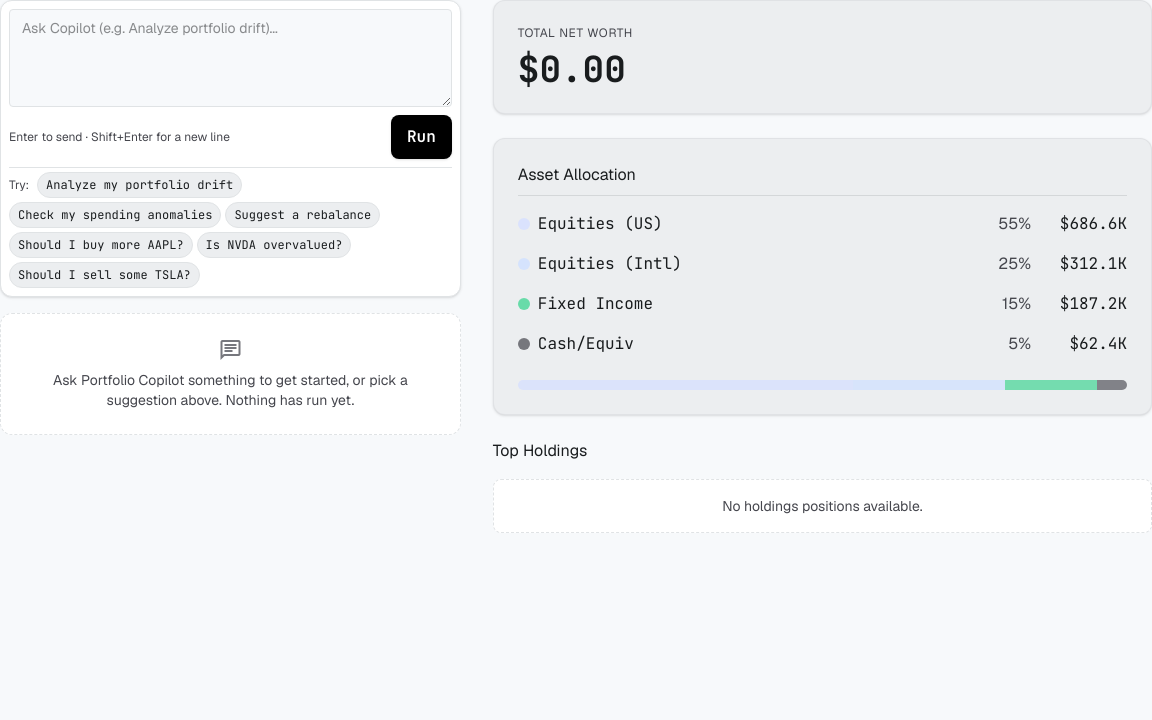
Test case: Frontend Views › DashboardView clears previous agent responses when the user starts a new interaction
Click the button with test id "example-prompt" showing "Analyze my portfolio drift" at point(140, 185), box left=37, top=172, right=242, bottom=198
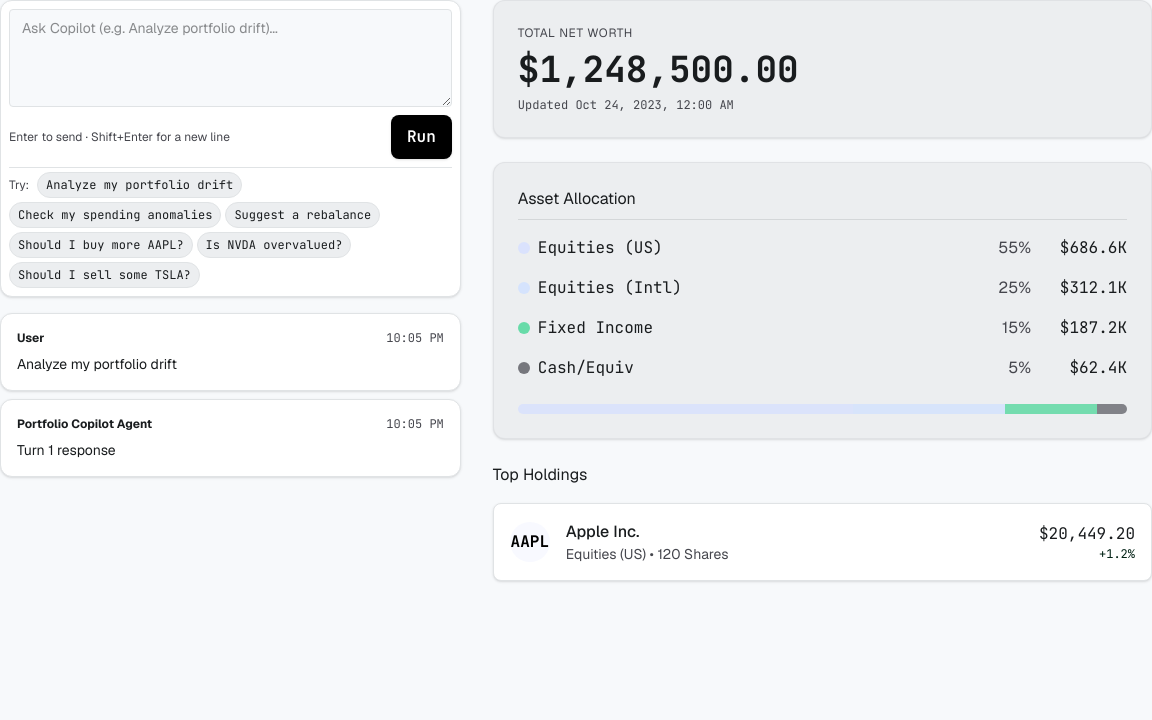
Expected: the text "Turn 1 response" is shown, left=17, top=441, right=116, bottom=459
Note: Turn 2: should clear Turn 1 message and show Turn 2 message
Click the button with test id "example-prompt" showing "Check my spending anomalies" at point(115, 215), box left=9, top=202, right=221, bottom=228
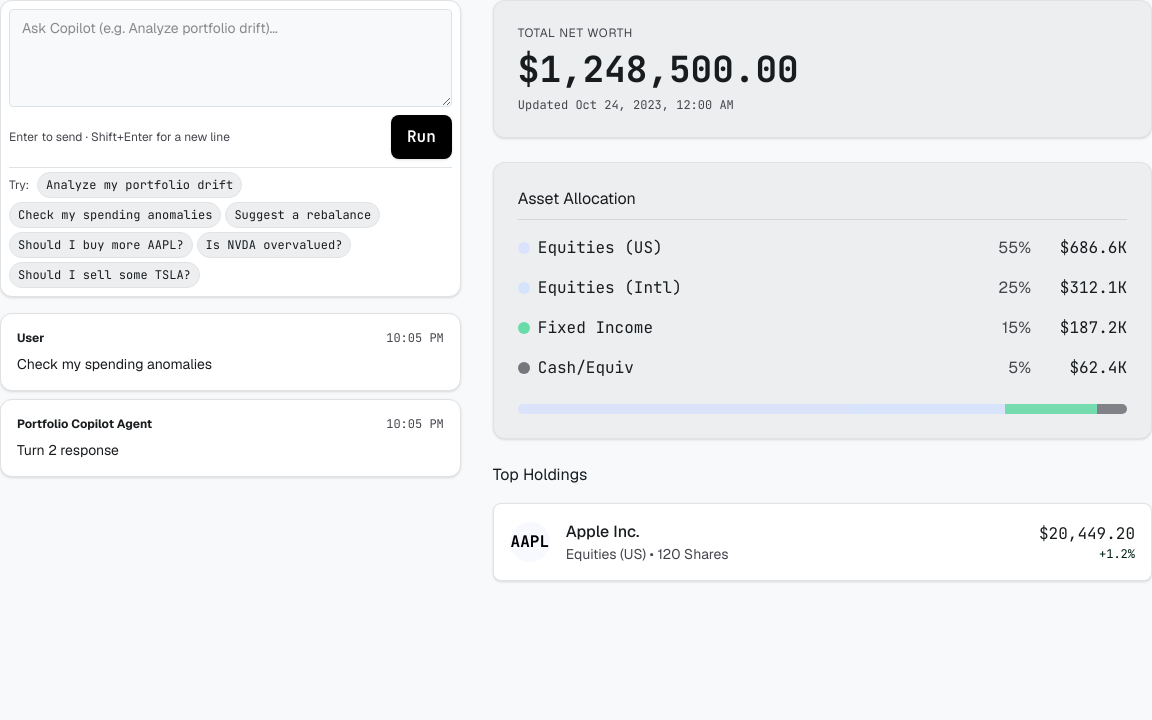
Expected: the text "Turn 2 response" is shown, left=17, top=441, right=119, bottom=459
Expected: the text "Turn 1 response" is gone
